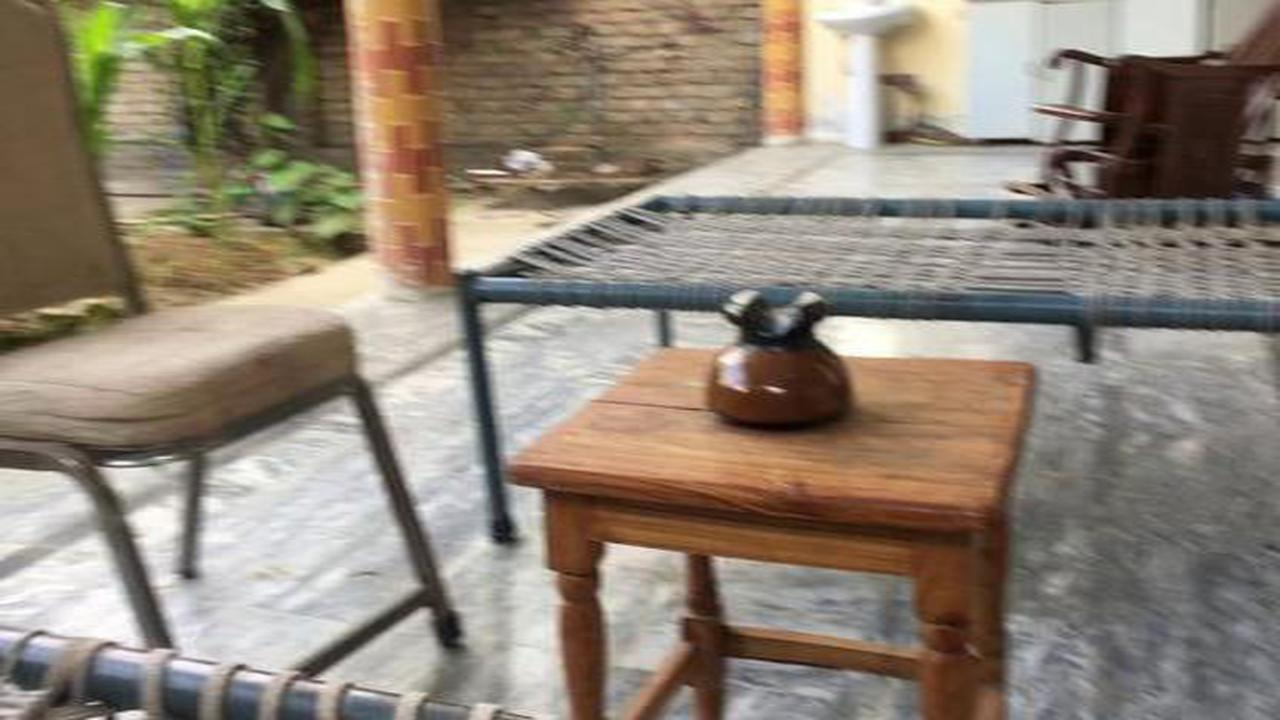insulator_pin: (681, 269, 874, 440)
